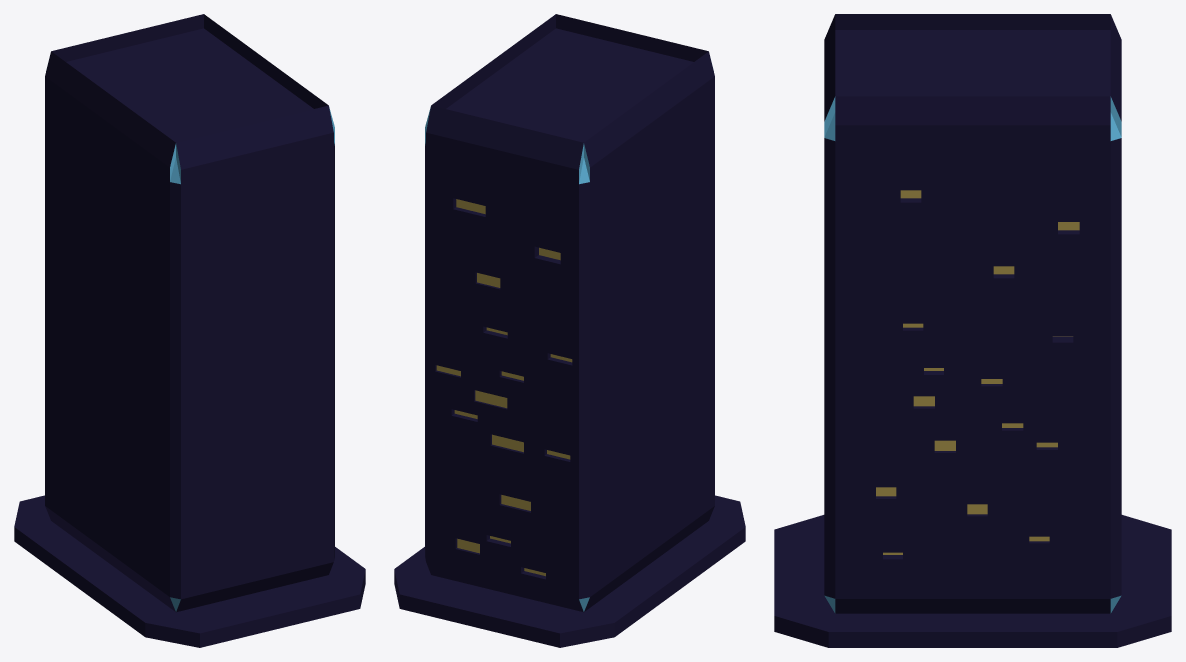
File: House10.fbx
3 renders of one model, left to right at view 1: azimuth 30°, elevation 25°; view 2: azimuth 150°, elevation 25°; view 3: azimuth 270°, elevation 25°, orthographic. The views are drawn at different scales.
Parts seen in each view (by area): view 1: House10; view 2: House10; view 3: House10.
Boxes of the visible parts, <box> form: House10: <box>14,14,365,647</box>; House10: <box>394,14,745,647</box>; House10: <box>774,14,1171,647</box>.
Bounding box in the file's own units: 267 × 561 × 378.
